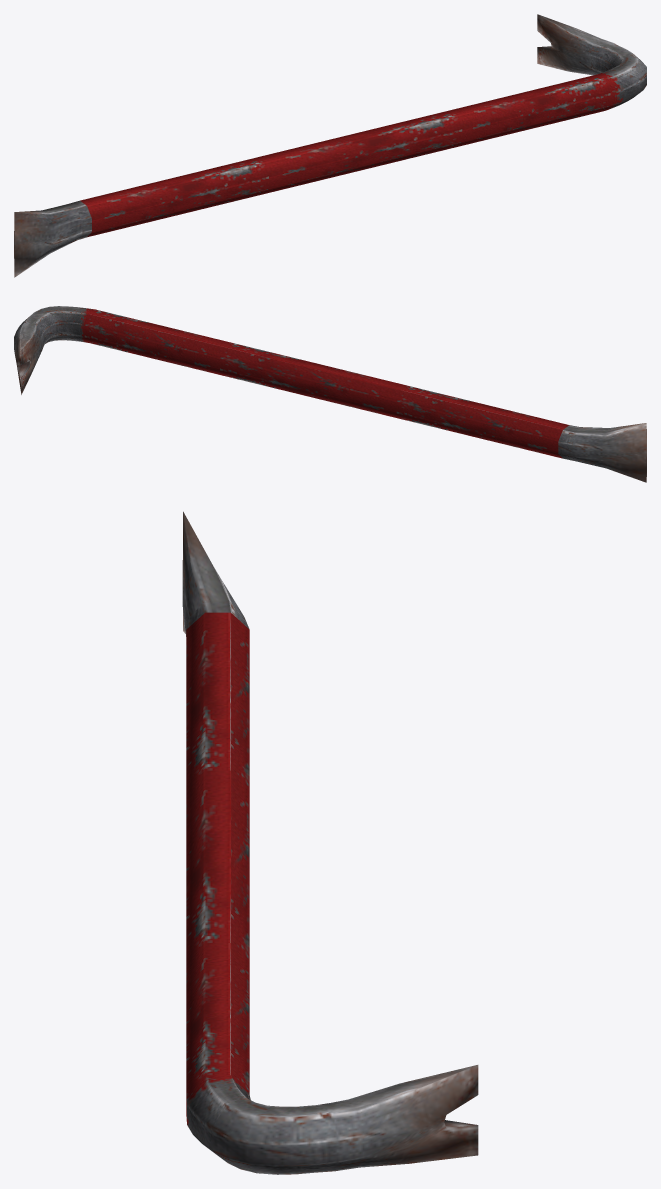
The model's file is crowbar-half-life-hd.glb.
3 renders of one model, top to bottom at view 1: azimuth 30°, elevation 25°; view 2: azimuth 150°, elevation 25°; view 3: azimuth 270°, elevation 25°, orthographic. The views are drawn at different scales.
Size of the model in its own units: 45.08 by 4.34 by 9.67.
1 material, 1 textured.
